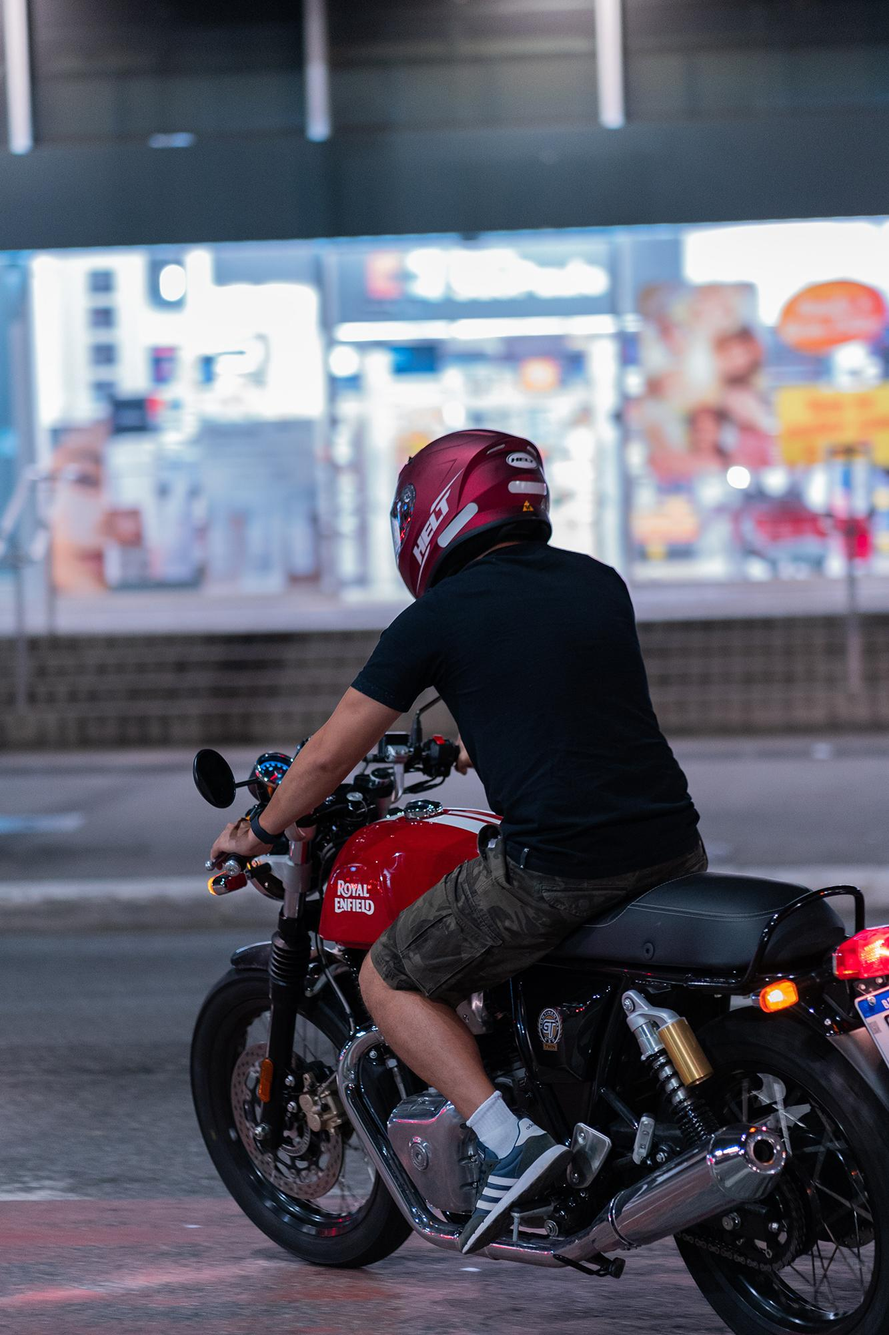helmet: (389, 427, 554, 609)
